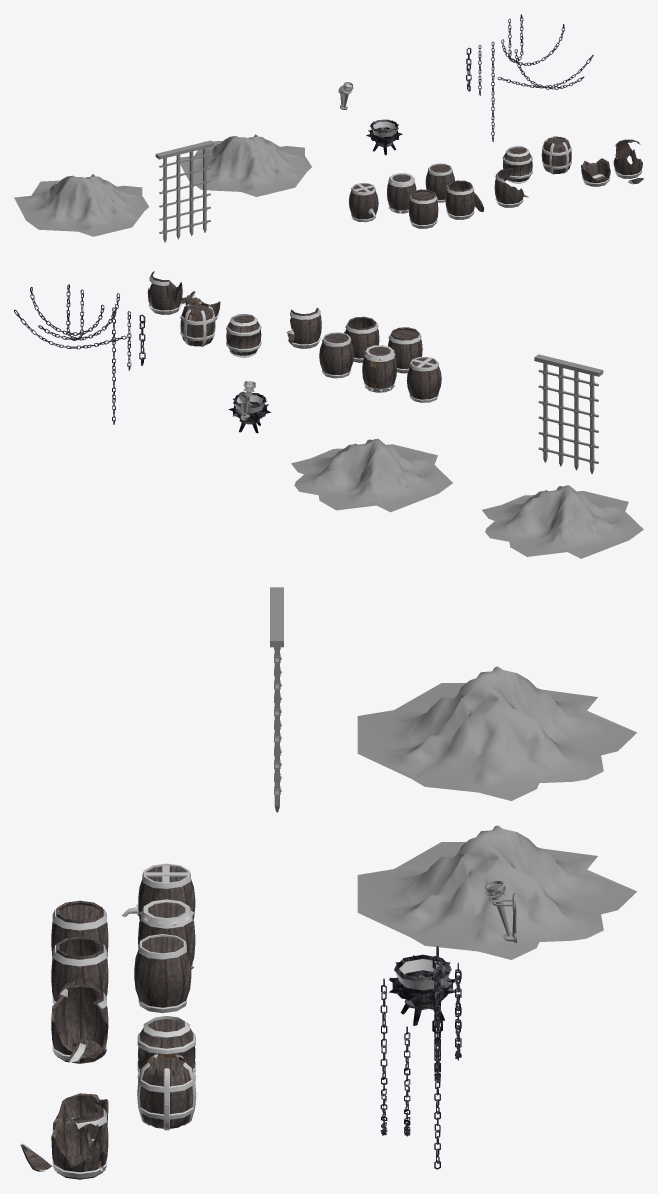
The model's file is DecoAssets.FBX.
3 renders of one model, top to bottom at view 1: azimuth 30°, elevation 25°; view 2: azimuth 150°, elevation 25°; view 3: azimuth 270°, elevation 25°, orthographic. The views are drawn at different scales.
Visible parts, largest first — view 1: GarbageMount001, GarbageMount, Portcullis000, Object043, Object042, Object033, Object032, Object041, Object018, Object034, Object013, Object035 (+2 smaller); view 2: GarbageMount, GarbageMount001, Portcullis000, Object041, Object035, Object033, Object032, Object034, Object018, Object013, Object042, Object043 (+1 smaller); view 3: GarbageMount001, GarbageMount, Object013, Object035, Object032, Object018, Object043, CANDLEz, Object034, Object033, Object041, Object042 (+3 smaller).
Boxes of the visible parts, <box> form: GarbageMount001: <box>14,174,149,236</box>; GarbageMount: <box>180,134,311,196</box>; Portcullis000: <box>155,140,214,242</box>; Object043: <box>445,180,483,219</box>; Object042: <box>408,189,438,228</box>; Object033: <box>348,183,378,222</box>; Object032: <box>541,136,571,174</box>; Object041: <box>387,173,416,213</box>; Object018: <box>613,139,643,184</box>; Object034: <box>502,146,532,183</box>; Object013: <box>494,168,528,207</box>; Object035: <box>425,163,454,202</box>; GarbageMount: <box>291,438,452,512</box>; GarbageMount001: <box>482,485,643,558</box>; Portcullis000: <box>534,354,603,473</box>; Object041: <box>362,345,396,392</box>; Object035: <box>319,332,353,378</box>; Object033: <box>406,356,441,402</box>; Object032: <box>180,302,215,346</box>; Object034: <box>226,314,261,357</box>; Object018: <box>147,271,195,314</box>; Object013: <box>286,308,321,348</box>; Object042: <box>388,327,422,373</box>; Object043: <box>343,316,379,362</box>; GarbageMount001: <box>357,666,636,800</box>; GarbageMount: <box>357,825,636,959</box>; Object013: <box>51,984,108,1063</box>; Object035: <box>134,934,191,1013</box>; Object032: <box>137,1054,196,1130</box>; Object018: <box>20,1103,108,1179</box>; Object043: <box>51,936,108,1004</box>; CANDLEz: <box>389,954,455,1025</box>; Object034: <box>137,1016,195,1072</box>; Object033: <box>121,863,195,919</box>; Object041: <box>138,899,195,969</box>; Object042: <box>51,900,108,957</box>.
Bounding box in the file's own units: 1623 × 328 × 794.
